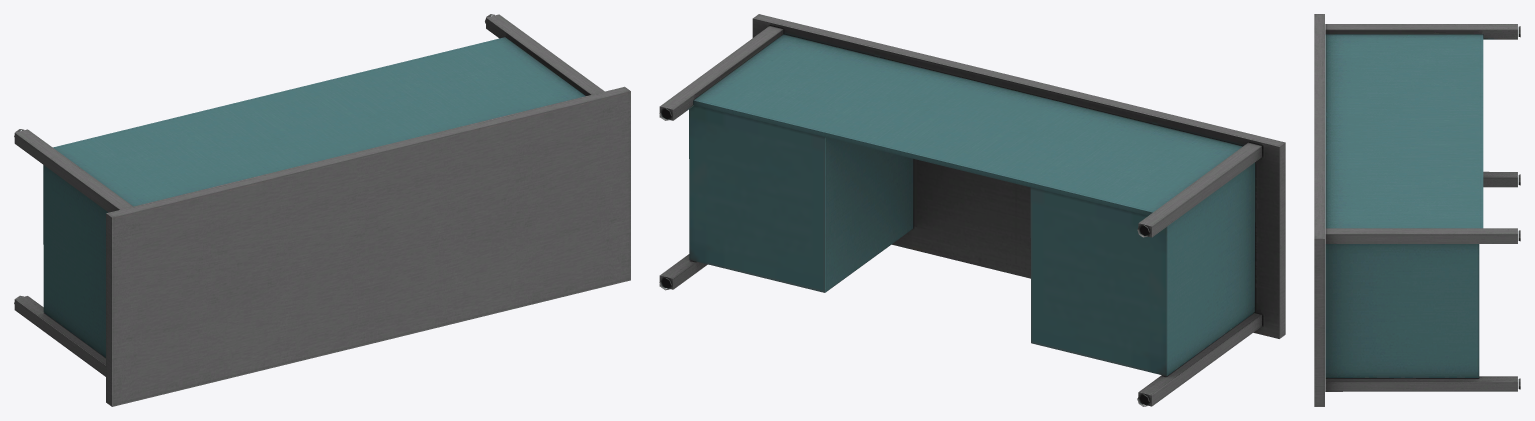
File: nt_2020_desk_LOD1.obj
3 renders of one model, left to right at view 1: azimuth 30°, elevation 25°; view 2: azimuth 150°, elevation 25°; view 3: azimuth 270°, elevation 25°, orthographic. The views are drawn at different scales.
Visible parts, largest first — view 1: mtl_nt_2020_desk; view 2: mtl_nt_2020_desk; view 3: mtl_nt_2020_desk.
Boxes of the visible parts, <box> form: mtl_nt_2020_desk: <box>14,14,630,406</box>; mtl_nt_2020_desk: <box>659,14,1285,406</box>; mtl_nt_2020_desk: <box>1314,14,1520,406</box>.
Size of the model in its own units: 232 by 80.98 by 90.1.
